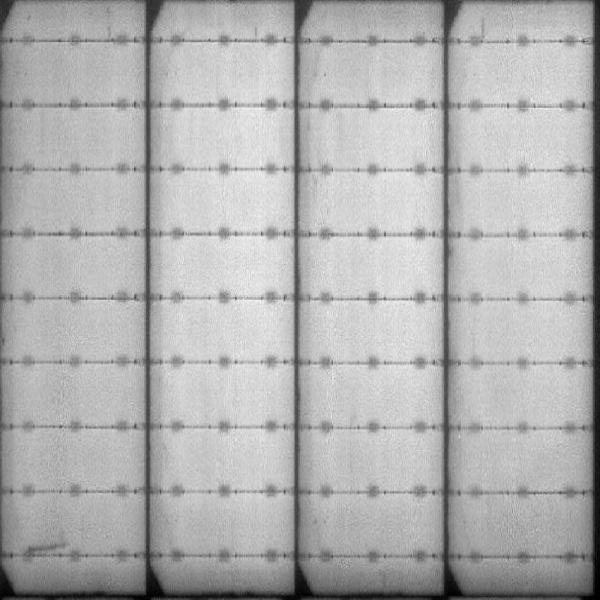scratch: (18, 539, 71, 555)
